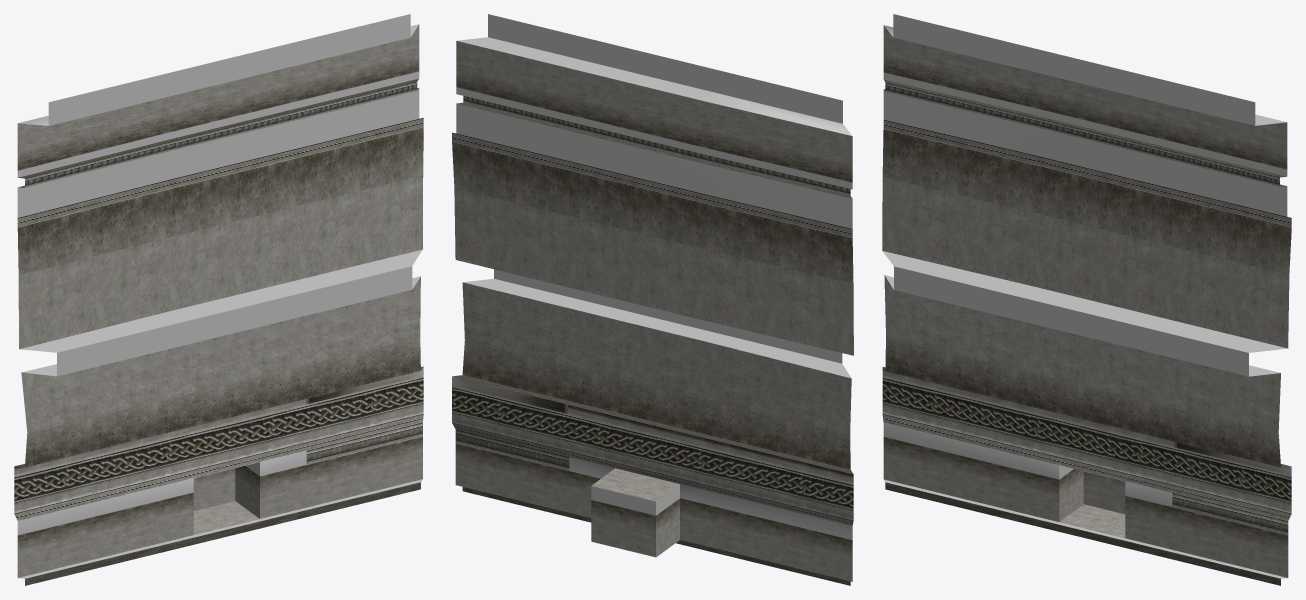
File: DWARF_PALACE_MAINHALL_WALL02B01.obj
3 views of the same model, side by side, from view 1: azimuth 30°, elevation 25°; view 2: azimuth 150°, elevation 25°; view 3: azimuth 330°, elevation 25° (orthographic). The views are drawn at different scales.
Visible parts, largest first — view 1: nhall_wall02B01; view 2: nhall_wall02B01; view 3: nhall_wall02B01.
Part boxes in pixels (left/top/right/bottom): nhall_wall02B01: left=14, top=14, right=423, bottom=585; nhall_wall02B01: left=452, top=14, right=853, bottom=585; nhall_wall02B01: left=882, top=14, right=1291, bottom=585.
Bounding box in the file's own units: 1810 × 2050 × 298.
